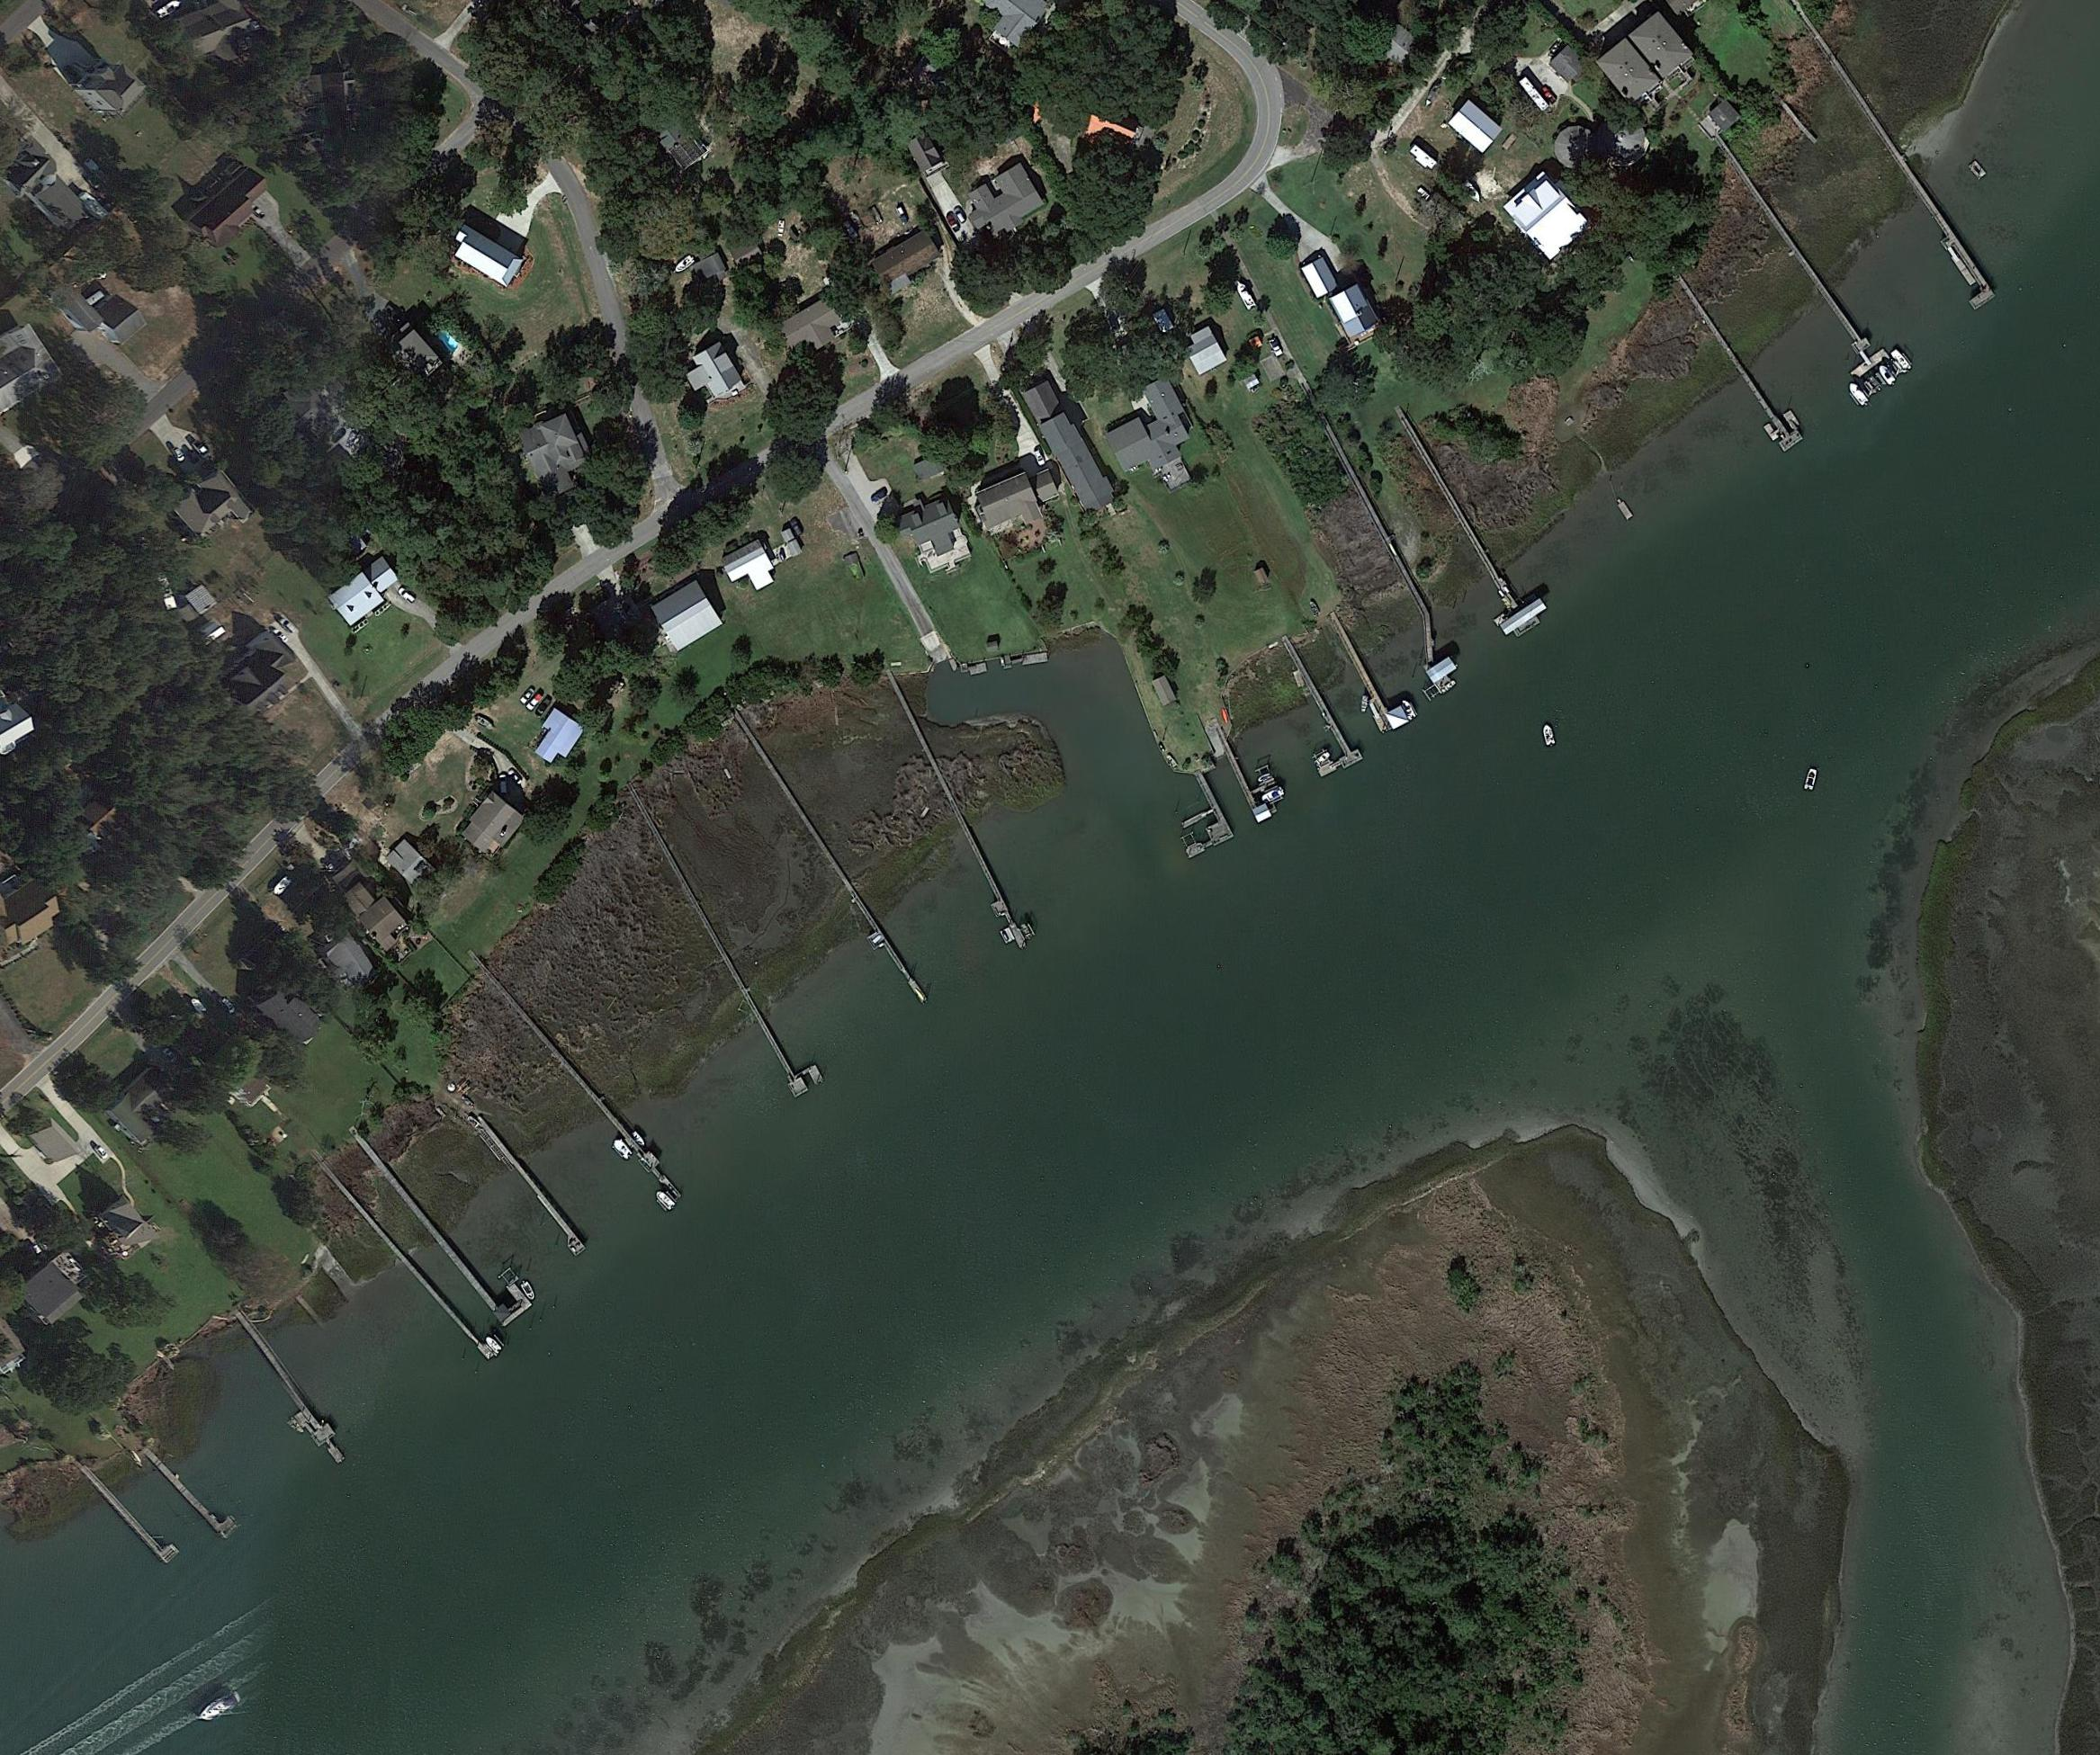harbor: (645, 811, 827, 1101), (1812, 51, 1997, 312), (750, 748, 930, 1014), (1704, 134, 1892, 386), (501, 989, 689, 1204), (890, 686, 1038, 954), (1312, 448, 1472, 696), (1390, 406, 1552, 645), (323, 1165, 501, 1364), (368, 1129, 534, 1328), (1681, 279, 1809, 455), (241, 1322, 356, 1472), (476, 1125, 588, 1258), (1266, 644, 1366, 783), (1326, 604, 1418, 736), (89, 1465, 180, 1567), (148, 1443, 239, 1542), (1160, 771, 1237, 858), (1224, 738, 1287, 825)
ship: (194, 1690, 242, 1722), (1233, 279, 1258, 309), (1887, 347, 1913, 372), (1462, 180, 1486, 206), (1847, 380, 1870, 408), (654, 1188, 675, 1212), (480, 1335, 504, 1356), (1259, 785, 1285, 804), (673, 253, 696, 274), (610, 1137, 631, 1160), (1877, 365, 1898, 386), (272, 876, 291, 898), (1401, 698, 1416, 724), (520, 1279, 537, 1301), (1542, 722, 1556, 747), (1313, 750, 1331, 768), (776, 220, 787, 239)
